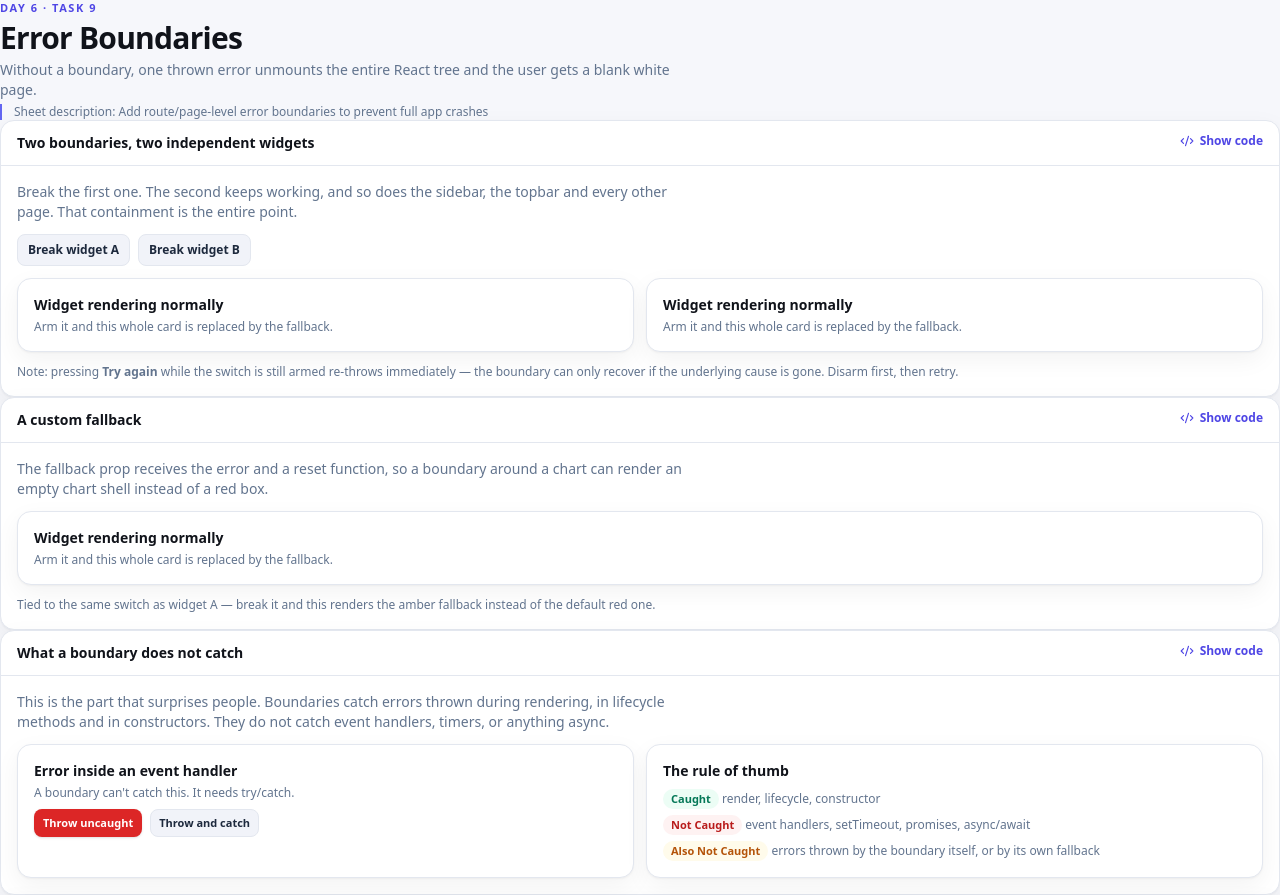
Test: task 9 — error boundaries › contains one broken widget and leaves the other working
Expected: the text "Widget rendering normally" is shown 3 times, [34,295,224,314]; [663,295,852,314]; [34,528,224,547]
Click the button "Break widget A" at (74, 250), box [17,234,130,266]
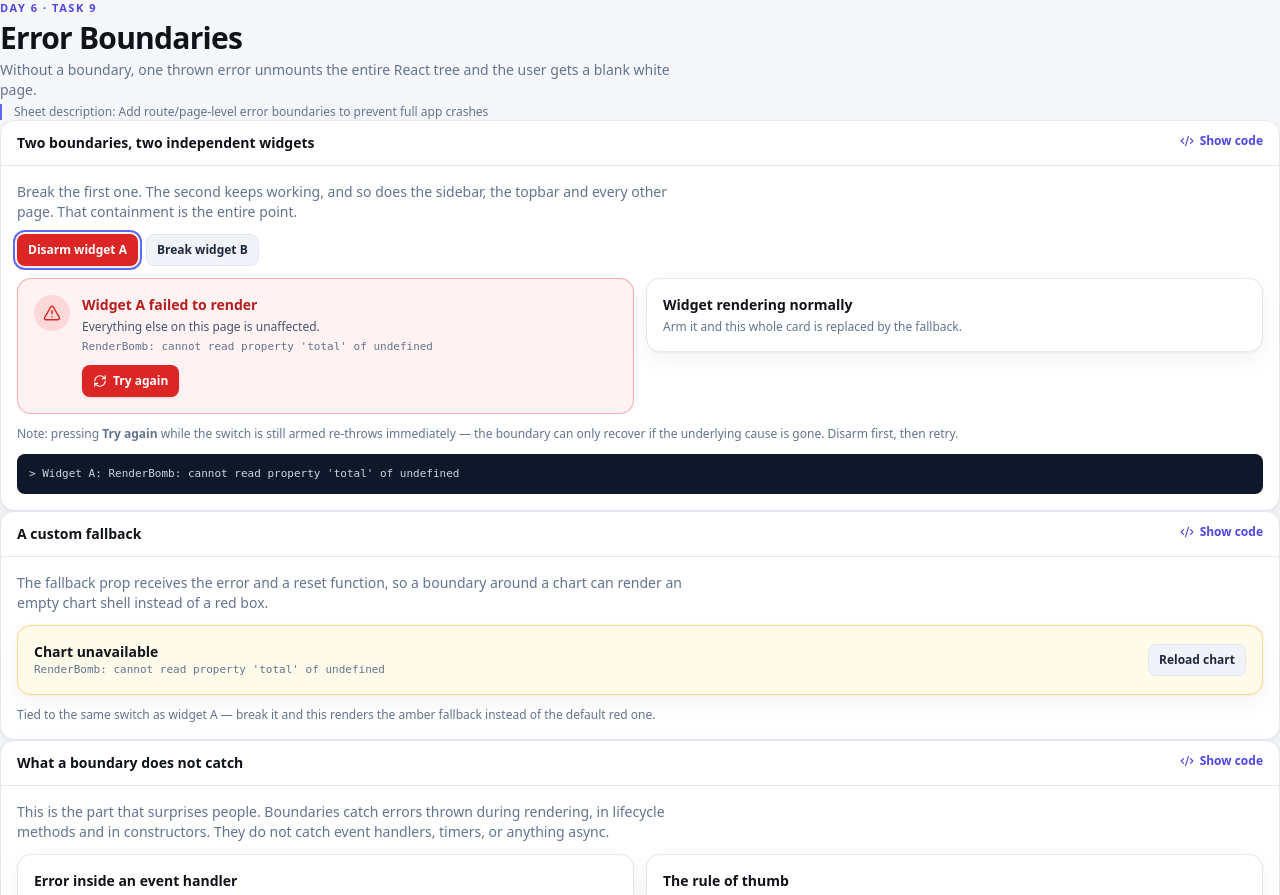
Expected: the text "Widget rendering normally" is shown, [663,295,852,314]
Expected: the text "Widget A failed to render" is shown, [82,295,257,314]
